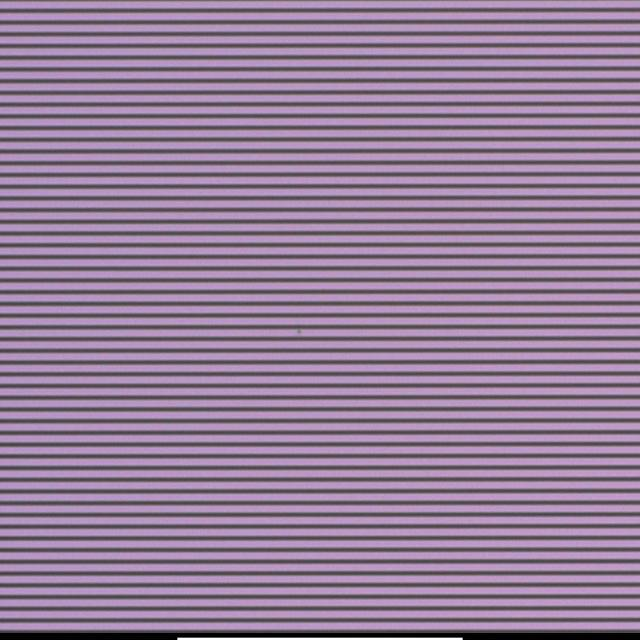nonvisual: (294, 326, 302, 337)
